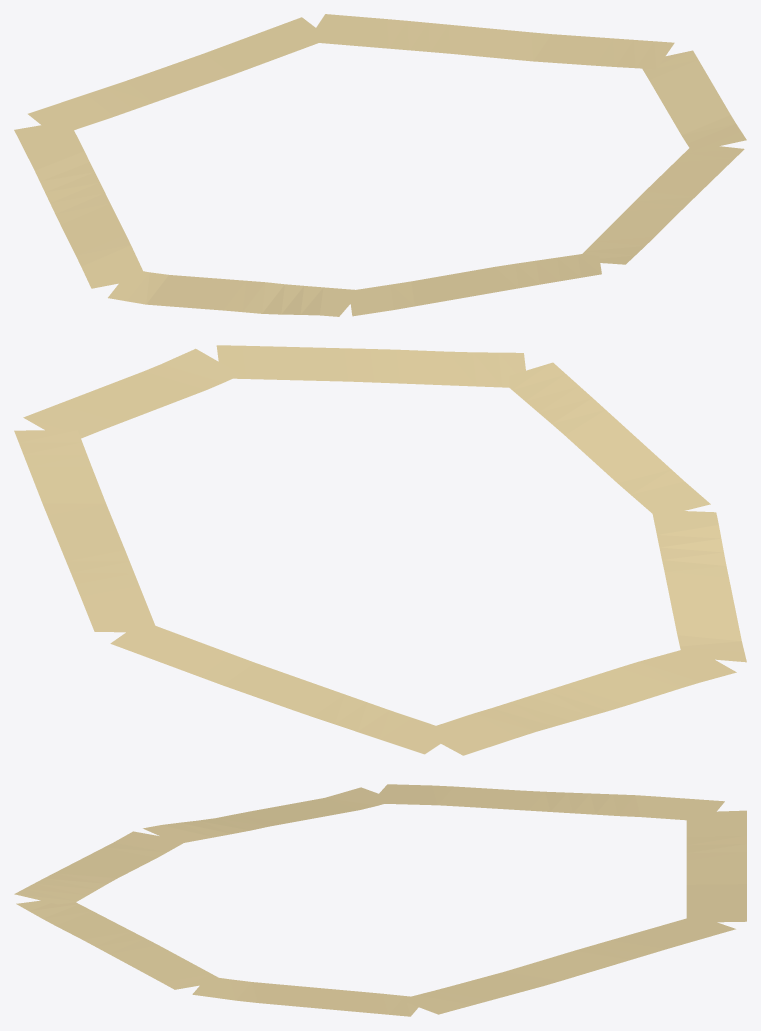
File: Trail_27.glb
The picture shows the model from 3 angles, top to bottom: view 1: azimuth 30°, elevation 25°; view 2: azimuth 150°, elevation 25°; view 3: azimuth 270°, elevation 25°; orthographic projection. The views are drawn at different scales.
Visible parts, largest first — view 1: Trail_27; view 2: Trail_27; view 3: Trail_27.
Part boxes in pixels (x1=…): Trail_27: x1=14, y1=14, x2=746, y2=316; Trail_27: x1=14, y1=345, x2=746, y2=755; Trail_27: x1=14, y1=784, x2=746, y2=1016.
Bounding box in the file's own units: 21.84 × 2.8 × 21.21.
